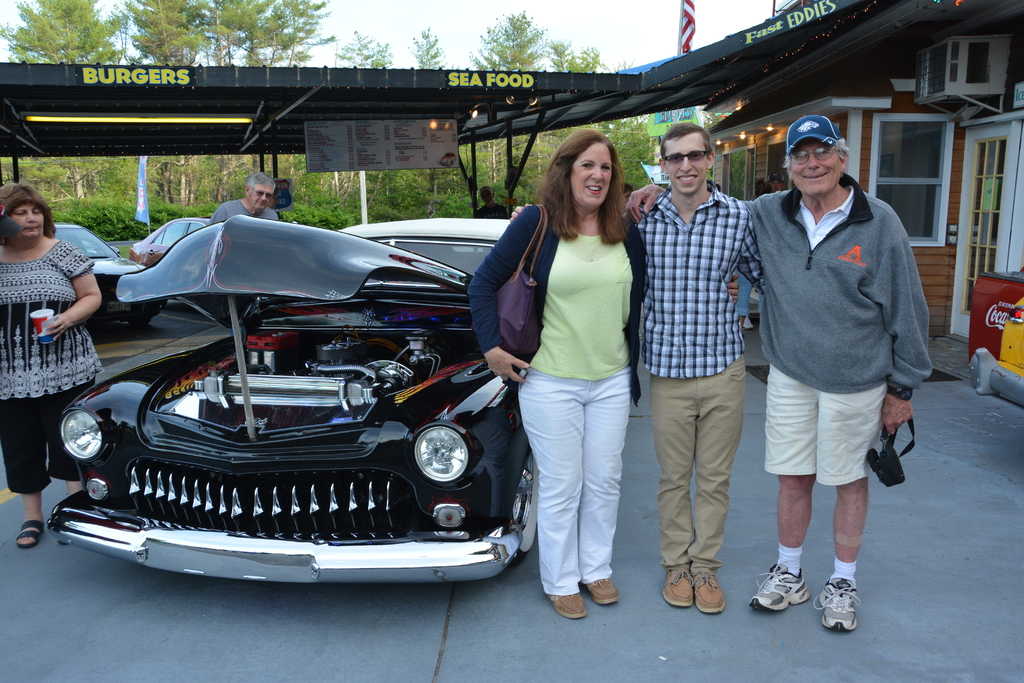Car: (33, 210, 556, 609)
